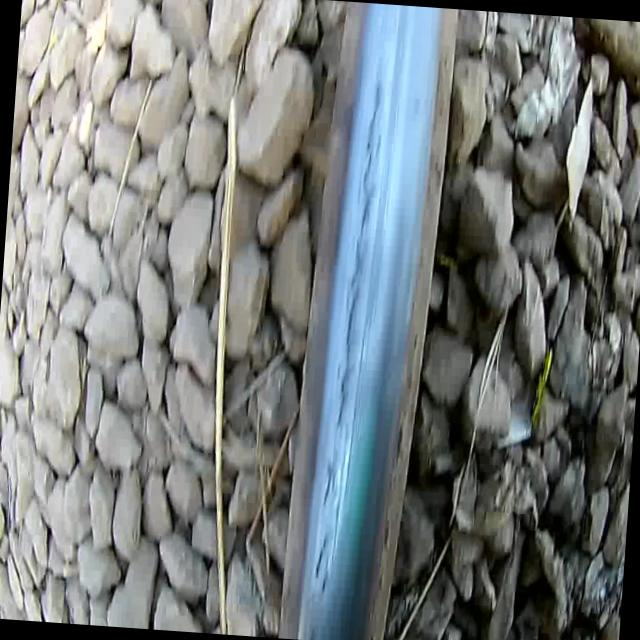Cracks: (311, 63, 388, 602), (301, 617, 319, 640)
Grooves: (326, 312, 382, 576)
